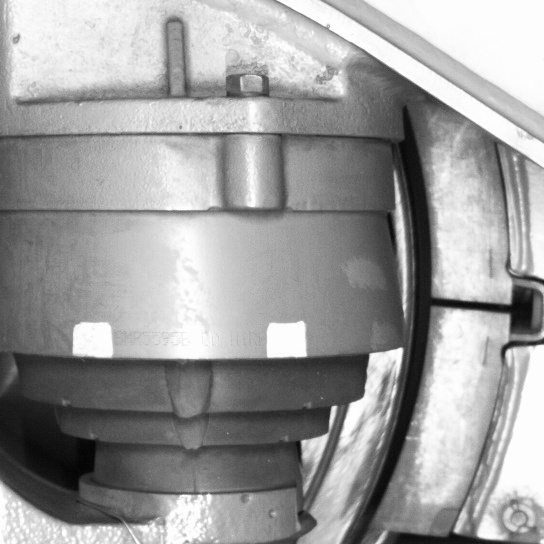KnifeSwitch: (338, 136, 531, 541)
